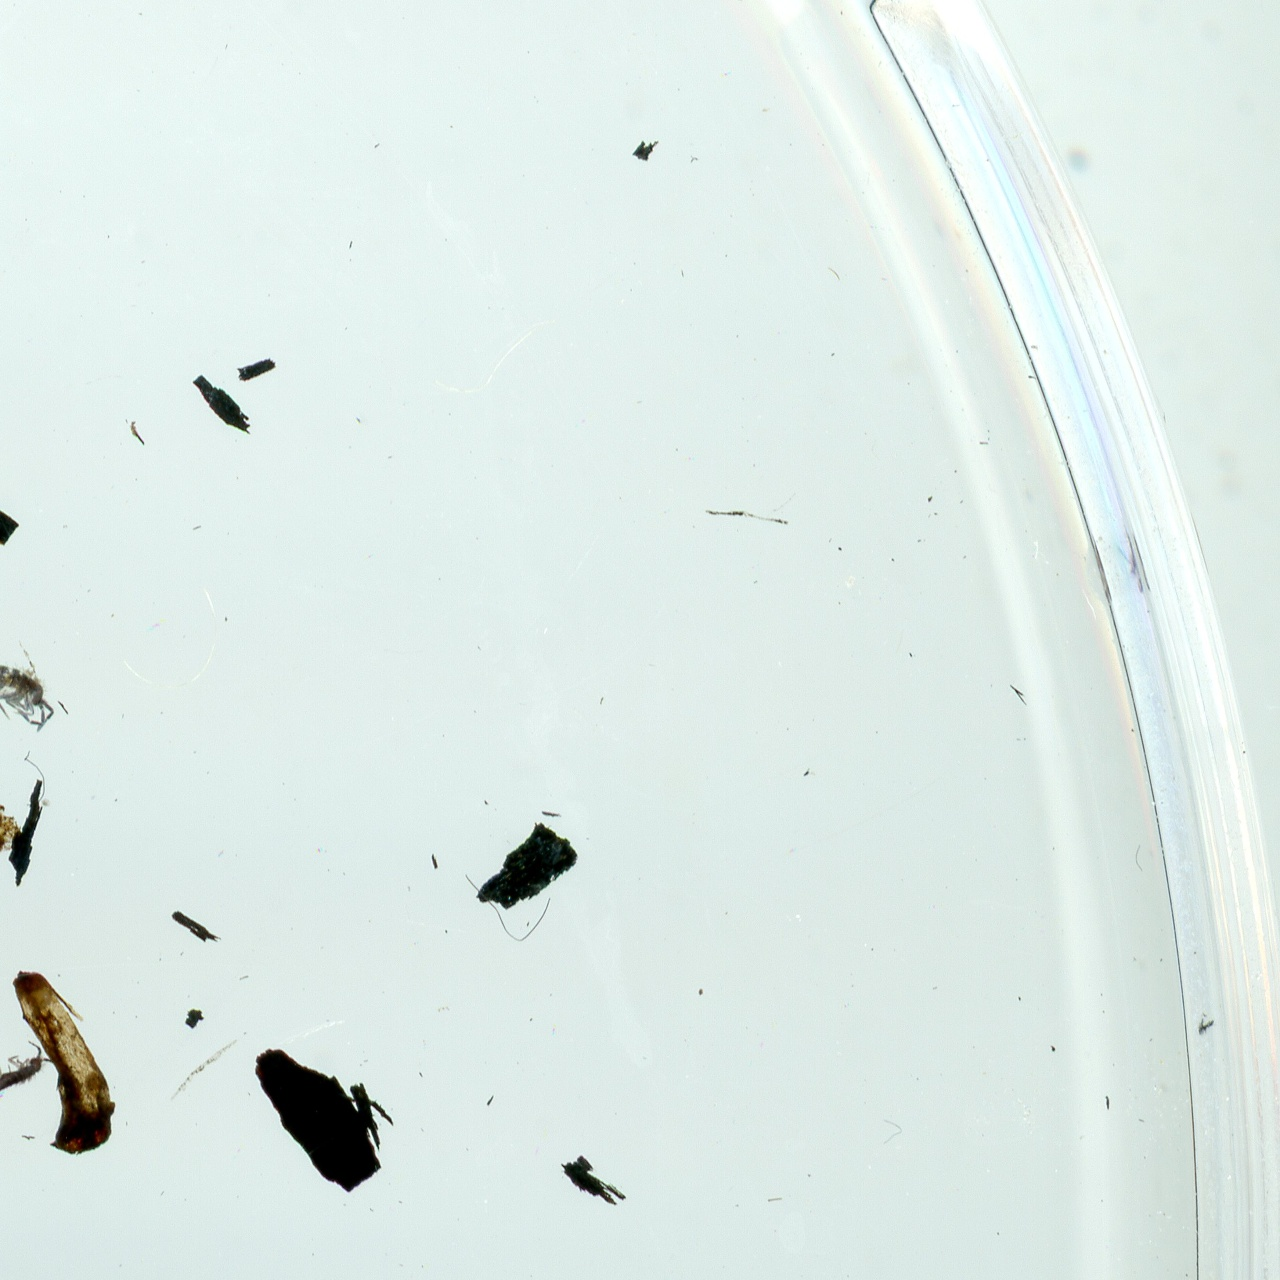arthropod: (0, 621, 70, 741), (0, 1027, 61, 1117)
